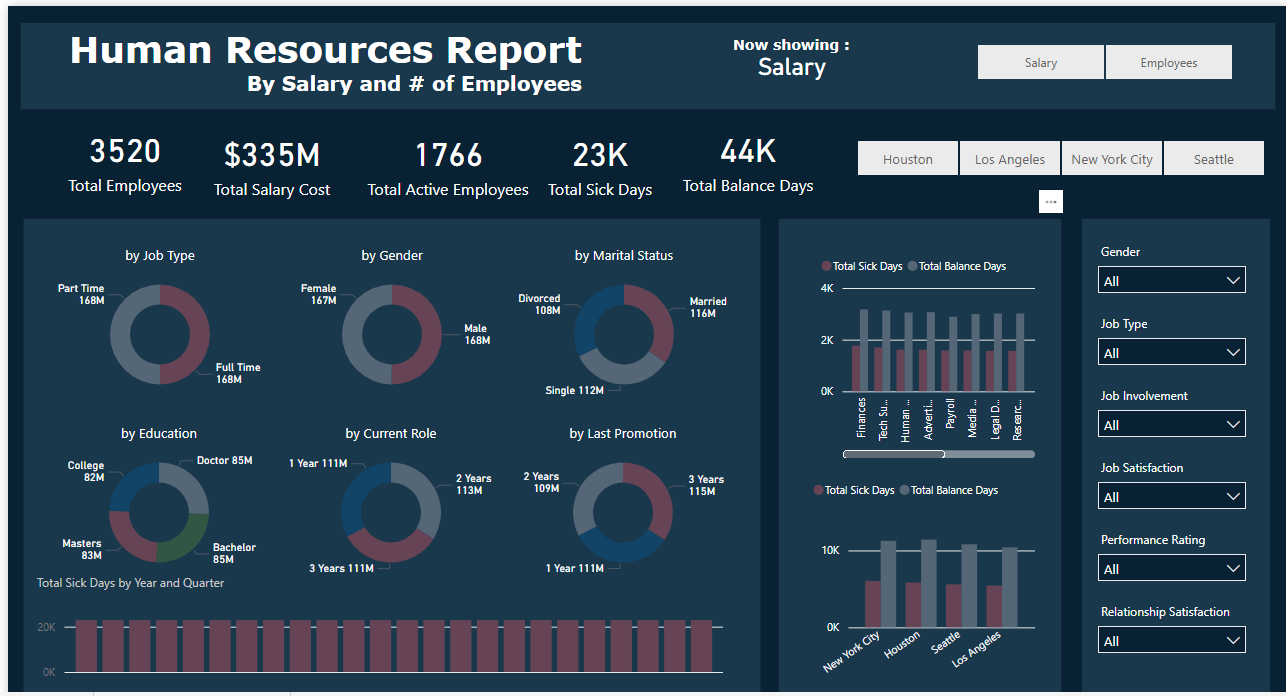

This screenshot's page, from the dashboard's own definition file:
{"tool":"powerbi","page":{"name":"Page 1","canvas":[1280,720],"ordinal":0},"visuals":[{"type":"textbox","box":[0,9.3,561.6,102.3],"z":0},{"type":"card","fields":{"Values":["aMeasures.Total Employees"]},"box":[22.1,140.7,145.3,91.9],"z":0,"group":"g3"},{"type":"shape","box":[0,269.8,776.7,433.7],"z":0,"group":"g4"},{"type":"shape","box":[793,269.8,279.1,433.7],"z":0,"group":"g2"},{"type":"shape","box":[1087.2,269.8,176.7,433.7],"z":0,"group":"g1"},{"type":"slicer","fields":{"Values":["Metrics.Value"]},"box":[908.1,32.6,311.6,79.1],"z":1000},{"type":"card","fields":{"Values":["aMeasures.Total Salary Cost"]},"box":[170.9,140.7,145.3,91.9],"z":1000,"group":"g3"},{"type":"donutChart","title":"by Job Type","fields":{"Category":["Human Resources.Job Type"],"Y":["aMeasures.Selected Value"]},"box":[0.2,272.3,222.3,184.2],"z":1000,"group":"g4"},{"type":"clusteredColumnChart","fields":{"Category":["Human Resources.Departmets"],"Y":["aMeasures.Total Sick Days","aMeasures.Total Balance Days"]},"box":[805.5,275.2,247.2,184],"z":1000,"group":"g2"},{"type":"slicer","fields":{"Values":["Human Resources.Gender"]},"box":[1092.2,292,158.1,57],"z":1000,"group":"g1"},{"type":"card","title":"Now Showing:","fields":{"Values":["aMeasures.Selection"]},"box":[614,32.6,250,87.2],"z":2000},{"type":"card","fields":{"Values":["aMeasures.Total Balance Days"]},"box":[654.7,141.9,157,91.9],"z":2000,"group":"g3"},{"type":"donutChart","title":"by Gender","fields":{"Y":["aMeasures.Selected Value"],"Category":["Human Resources.Gender"]},"box":[246.8,276.9,230.3,184.9],"z":2000,"group":"g4"},{"type":"clusteredColumnChart","fields":{"Category":["Human Resources.Business Unit"],"Y":["aMeasures.Total Sick Days","aMeasures.Total Balance Days"]},"box":[815.8,479.3,248.3,173.2],"z":2000,"group":"g2"},{"type":"slicer","fields":{"Values":["Human Resources.Job Satisfaction"]},"box":[1091.1,494.3,159.3,58.1],"z":2000,"group":"g1"},{"type":"card","fields":{"Values":["aMeasures.Total Active Employees"]},"box":[320.9,140.7,189.5,91.9],"z":3000,"group":"g3"},{"type":"group","id":"g1","title":"Slicer Group","box":[1087.2,269.8,176.7,433.7],"z":3000},{"type":"donutChart","title":"by Marital Status","fields":{"Y":["aMeasures.Selected Value"],"Category":["Human Resources.Marital Status"]},"box":[512.3,277,225.6,188.4],"z":3000,"group":"g4"},{"type":"slicer","fields":{"Values":["Human Resources.Performance Rating"]},"box":[1091.1,560.6,159.3,58.1],"z":3000,"group":"g1"},{"type":"card","fields":{"Values":["aMeasures.Total Sick Days"]},"box":[507,140.7,145.3,91.9],"z":4000,"group":"g3"},{"type":"group","id":"g2","title":"Bar Group","box":[793,269.8,279.1,433.7],"z":4000},{"type":"donutChart","title":"by Education","fields":{"Y":["aMeasures.Selected Value"],"Category":["Human Resources.Education"]},"box":[2.4,490,219.7,193],"z":4000,"group":"g4"},{"type":"slicer","fields":{"Values":["Human Resources.Job Type"]},"box":[1091.1,626,159.3,58.1],"z":4000,"group":"g1"},{"type":"group","id":"g3","title":"Card Group","box":[22.1,140.7,1258.1,93],"z":5000},{"type":"slicer","fields":{"Values":["Human Resources.Business Unit"]},"box":[820.9,157,459.3,54.7],"z":5000,"group":"g3"},{"type":"slicer","fields":{"Values":["Human Resources.Job Type"]},"box":[1091.1,357.3,159.3,57],"z":5000,"group":"g1"},{"type":"donutChart","title":"by Current Role","fields":{"Y":["aMeasures.Selected Value"],"Category":["Human Resources.Years in current role"]},"box":[254.7,489.8,231.4,189.5],"z":5000,"group":"g4"},{"type":"shape","box":[0,131.4,1280.2,108.1],"z":6000},{"type":"slicer","fields":{"Values":["Human Resources.Job Involvement"]},"box":[1091.1,427.9,159.3,57],"z":6000,"group":"g1"},{"type":"donutChart","title":"by Last Promotion","fields":{"Y":["aMeasures.Selected Value"],"Category":["Human Resources.Years since last promition"]},"box":[512.3,490,250.3,187.2],"z":6000,"group":"g4"},{"type":"group","id":"g4","title":"donut group","box":[0,269.8,776.7,433.7],"z":7000}]}

Visuals, with their boxes in screenshot pixels (x1, y1, x2, y2):
textbox: box=[3, 52, 520, 146]
card - aMeasures.Total Employees: box=[24, 173, 157, 258]
shape: box=[3, 292, 718, 691]
shape: box=[733, 292, 990, 691]
shape: box=[1004, 292, 1166, 691]
slicer - Metrics.Value: box=[839, 74, 1126, 146]
card - aMeasures.Total Salary Cost: box=[161, 173, 294, 258]
"by Job Type" donutChart: box=[4, 294, 208, 464]
clusteredColumnChart - Human Resources.Departmets x aMeasures.Total Sick Days: box=[745, 297, 972, 466]
slicer - Human Resources.Gender: box=[1008, 312, 1154, 365]
"Now Showing:" card: box=[568, 74, 798, 154]
card - aMeasures.Total Balance Days: box=[606, 174, 750, 259]
"by Gender" donutChart: box=[230, 298, 442, 469]
clusteredColumnChart - Human Resources.Business Unit x aMeasures.Total Sick Days: box=[754, 485, 983, 644]
slicer - Human Resources.Job Satisfaction: box=[1007, 498, 1154, 552]
card - aMeasures.Total Active Employees: box=[299, 173, 473, 258]
"Slicer Group" group: box=[1004, 292, 1166, 691]
"by Marital Status" donutChart: box=[475, 298, 682, 472]
slicer - Human Resources.Performance Rating: box=[1007, 559, 1154, 613]
card - aMeasures.Total Sick Days: box=[470, 173, 604, 258]
"Bar Group" group: box=[733, 292, 990, 691]
"by Education" donutChart: box=[6, 494, 208, 672]
slicer - Human Resources.Job Type: box=[1007, 620, 1154, 673]
"Card Group" group: box=[24, 173, 1181, 259]
slicer - Human Resources.Business Unit: box=[759, 188, 1181, 238]
slicer - Human Resources.Job Type: box=[1007, 372, 1154, 425]
"by Current Role" donutChart: box=[238, 494, 451, 669]
shape: box=[3, 164, 1181, 264]
slicer - Human Resources.Job Involvement: box=[1007, 437, 1154, 490]
"by Last Promotion" donutChart: box=[475, 494, 705, 667]
"donut group" group: box=[3, 292, 718, 691]
